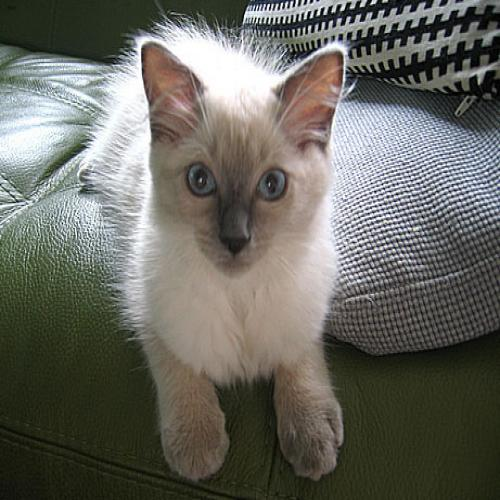ragdoll: (131, 28, 339, 288)
